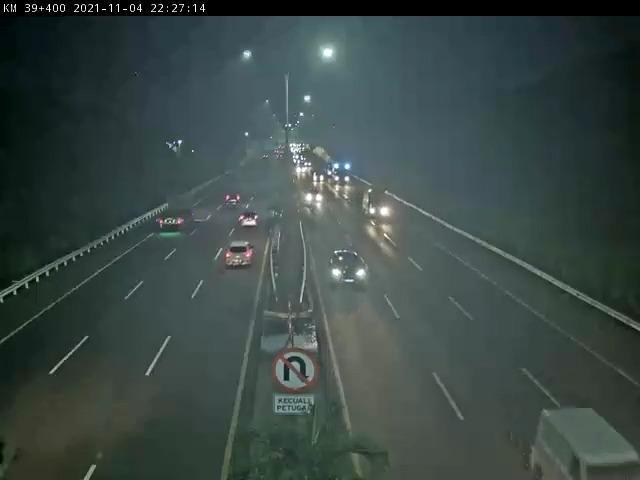car: (534, 407, 640, 480), (330, 250, 370, 288), (225, 242, 257, 269), (241, 211, 262, 229), (226, 195, 245, 208)
truck: (155, 193, 195, 231), (363, 188, 392, 218)
